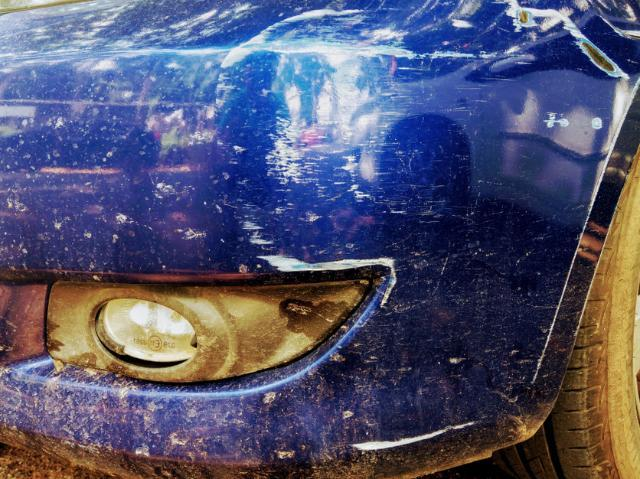Bumper: (1, 4, 585, 453)
